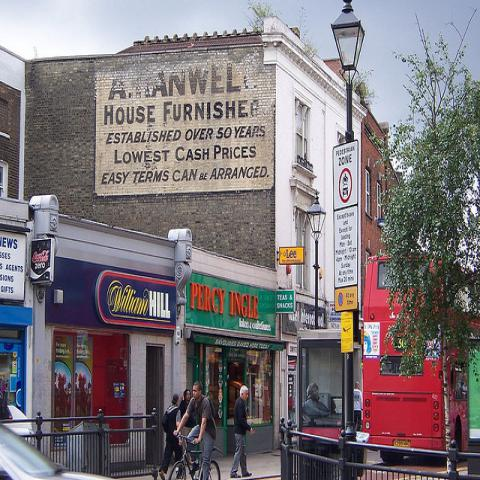bus: (365, 258, 479, 470)
car: (1, 424, 93, 475)
